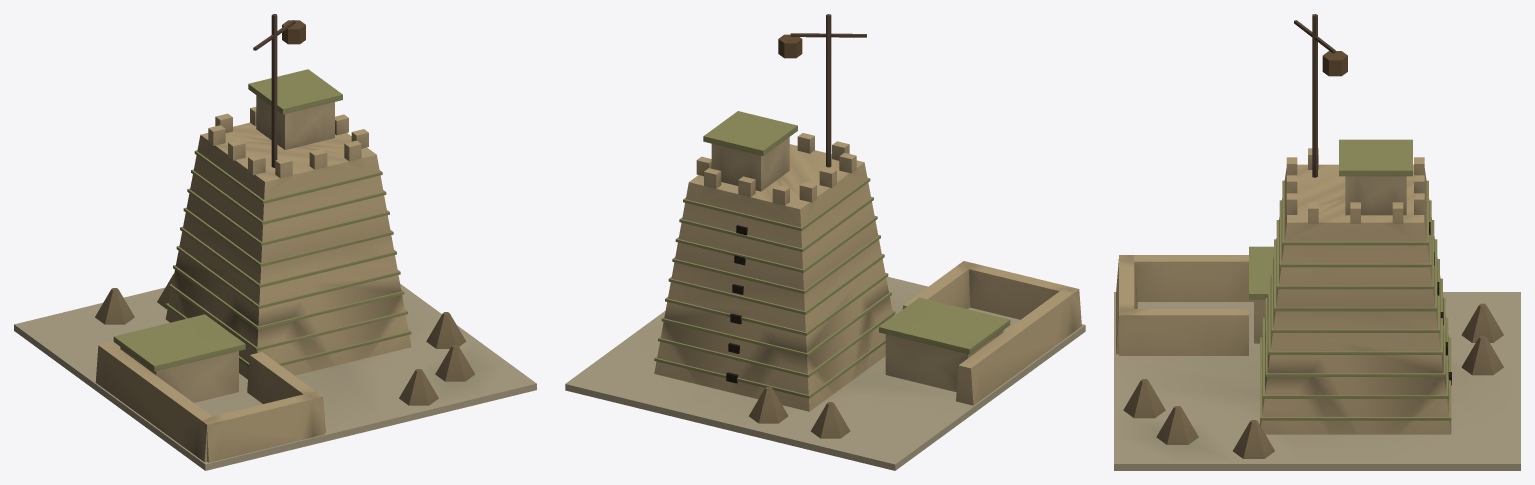
Rendered from beacon.glb.
3 renders of one model, left to right at view 1: azimuth 30°, elevation 25°; view 2: azimuth 150°, elevation 25°; view 3: azimuth 270°, elevation 25°, orthographic. The views are drawn at different scales.
Parts seen in each view (by area): view 1: p0_tower, p1_quarters, p2_fuel; view 2: p0_tower, p1_quarters, p2_fuel; view 3: p0_tower, p1_quarters, p2_fuel.
Boxes of the visible parts, x1,y1,x2,y2 form: p0_tower: (14,122,536,470); p1_quarters: (95,14,368,462); p2_fuel: (95,273,474,405); p0_tower: (565,144,1085,470); p1_quarters: (696,14,1081,405); p2_fuel: (749,387,850,438); p0_tower: (1114,164,1520,470); p1_quarters: (1116,14,1451,385); p2_fuel: (1123,303,1503,458).
Bounding box in the file's own units: 16 × 16 × 16.
